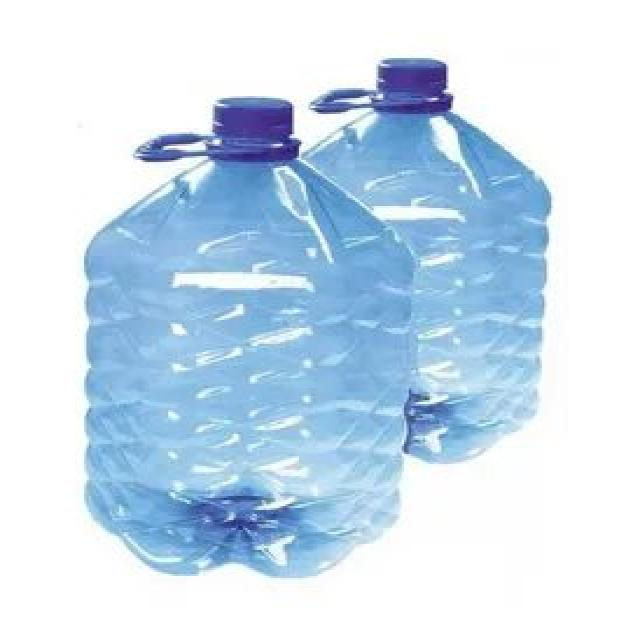blue: (84, 143, 416, 577)
